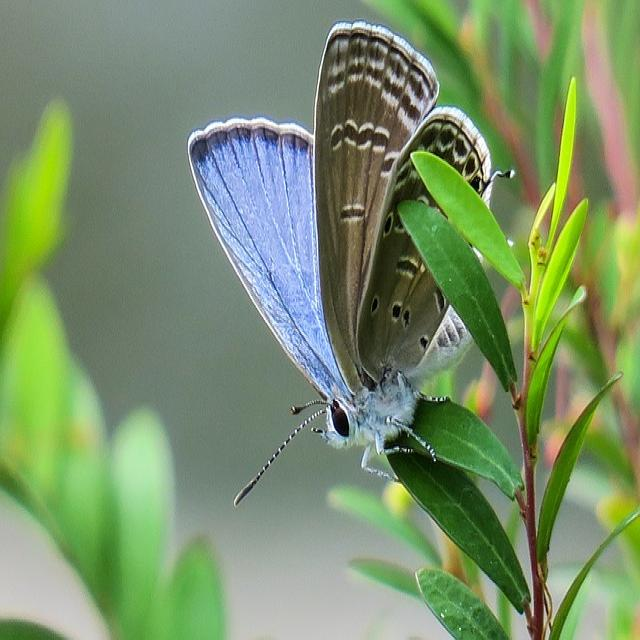butterfly: (187, 23, 523, 448)
